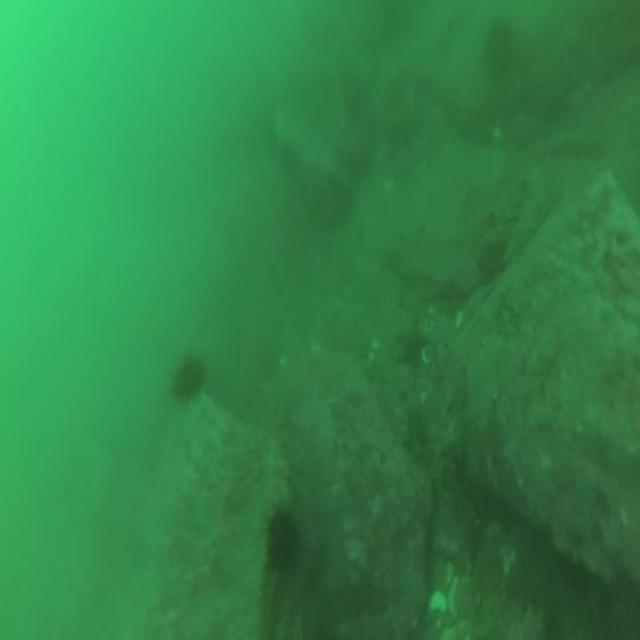echinus: (264, 514, 298, 570), (485, 21, 515, 71), (170, 357, 205, 398), (479, 238, 506, 284)
starfish: (396, 322, 426, 368)
